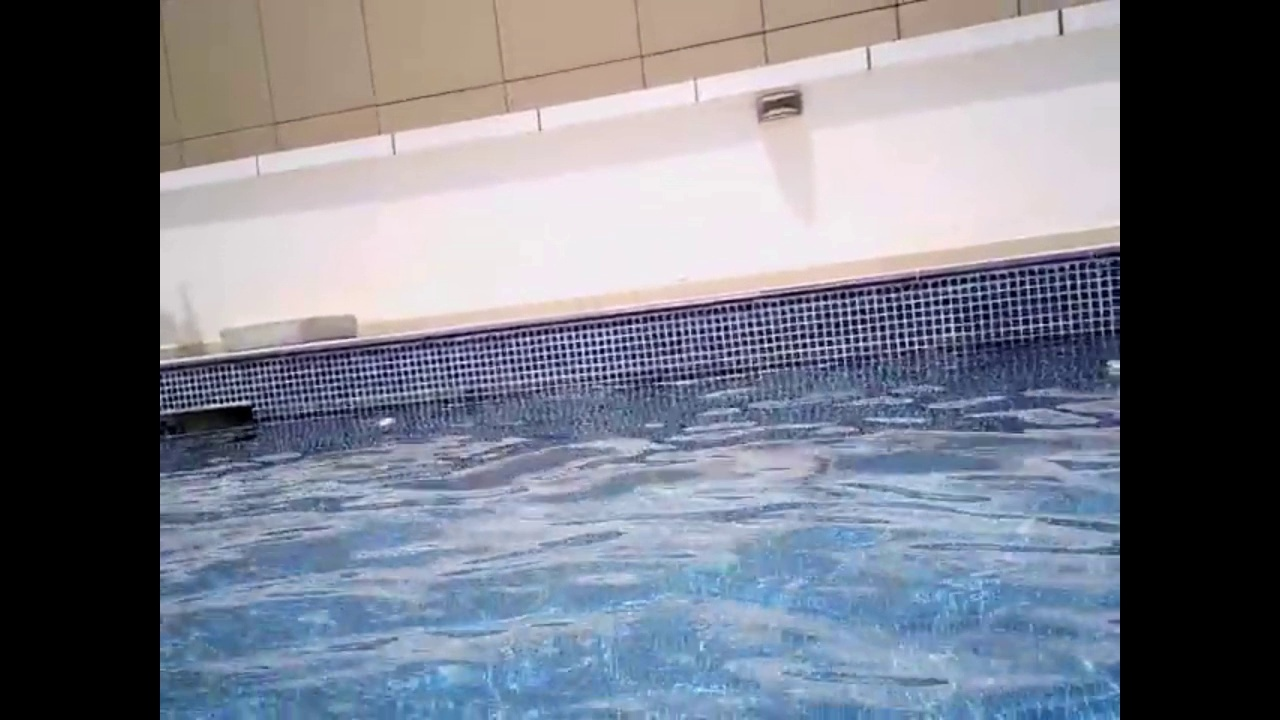debris: (370, 413, 398, 436), (1102, 353, 1118, 384)
